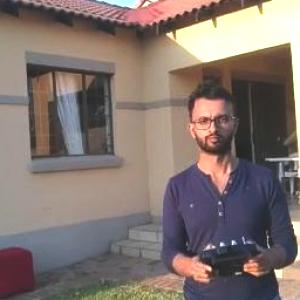follow: (158, 75, 300, 299)
